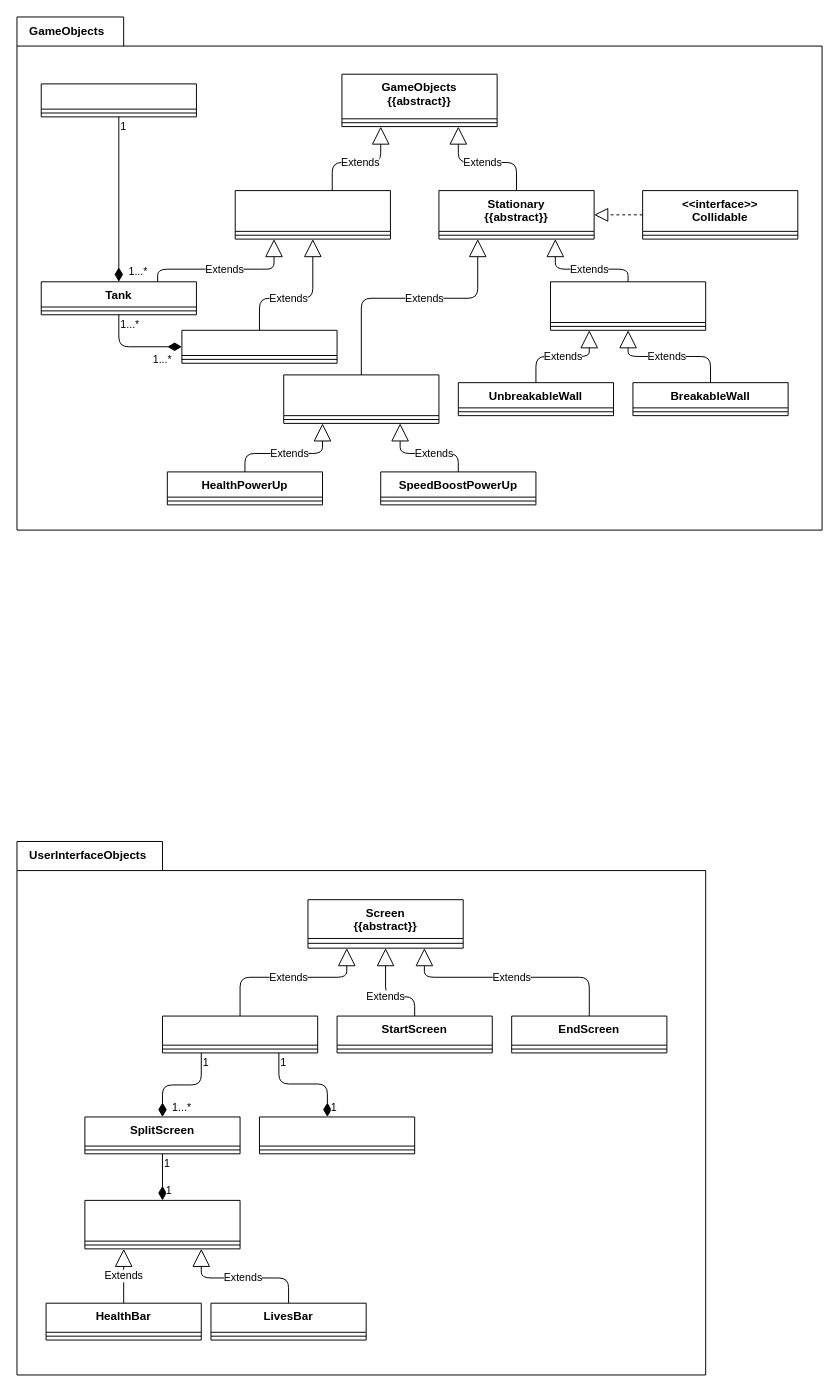
The diagram is 839 pixels wide and 1392 high, and some of its shapes have lost their labels. Here are the shapes that lost their labels. From the top down, the centre of each, then its label:
At pixel 118 100: "Player".
At pixel 312 214: "Moveable {{abstract}}".
At pixel 628 305: "Wall {{abstract}}".
At pixel 259 346: "Bullet".
At pixel 361 398: "PowerUp {{abstract}}".
At pixel 240 1034: "BattleScreen".
At pixel 337 1135: "MiniMap".
At pixel 162 1224: "StatusDisplay {{abstract}}".
